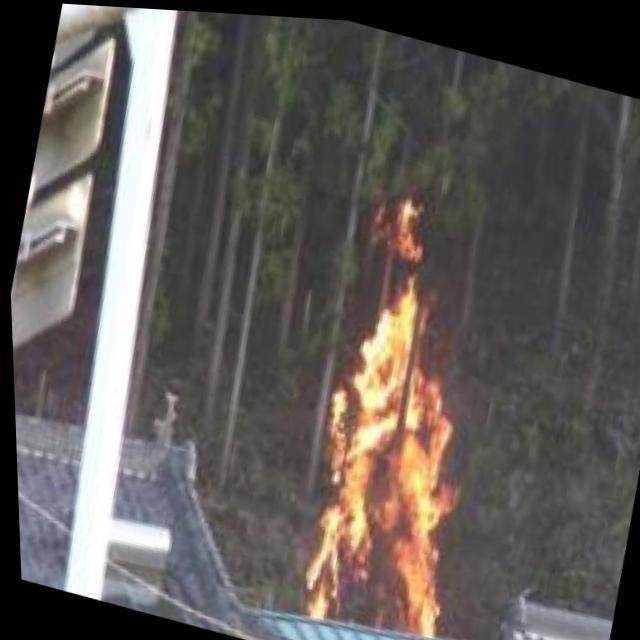fire: (250, 172, 522, 640)
